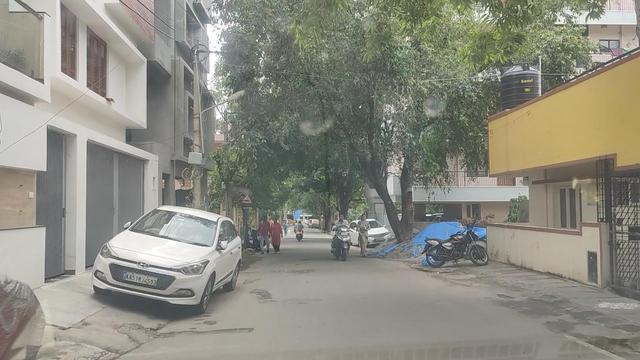LMV: (331, 213, 352, 260)
RoadDamages: (114, 320, 257, 337), (248, 286, 274, 305), (281, 265, 318, 276)
